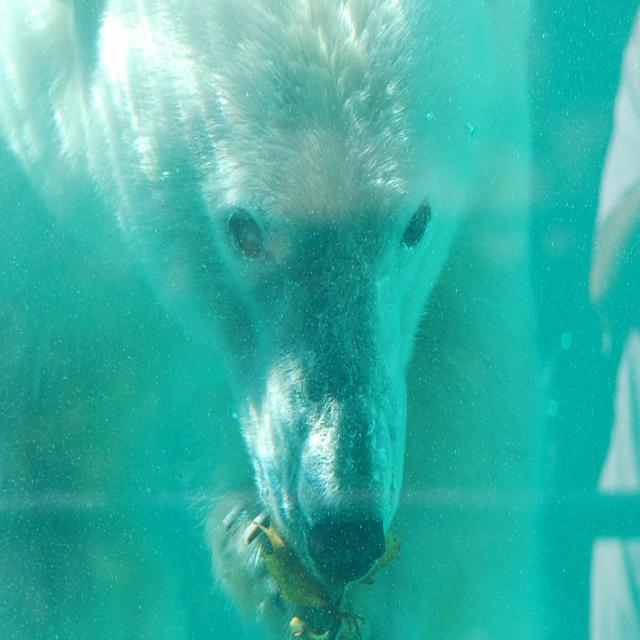Buffalo: (0, 0, 534, 639)
